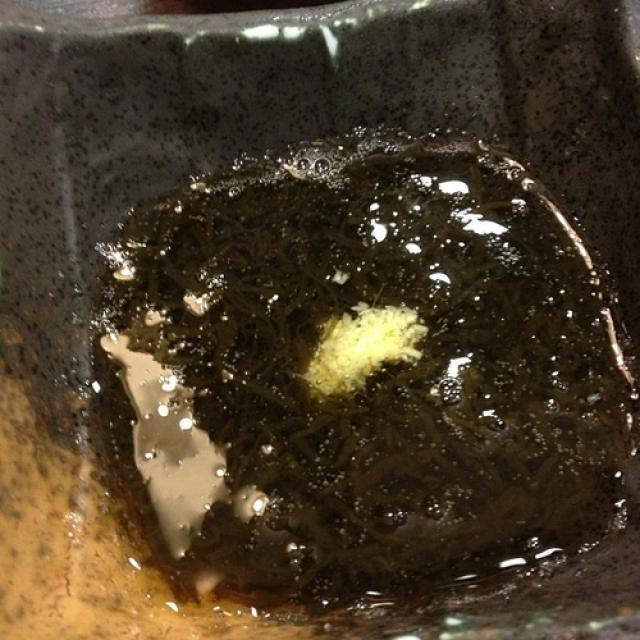蔬菜料理: (55, 104, 613, 604)
